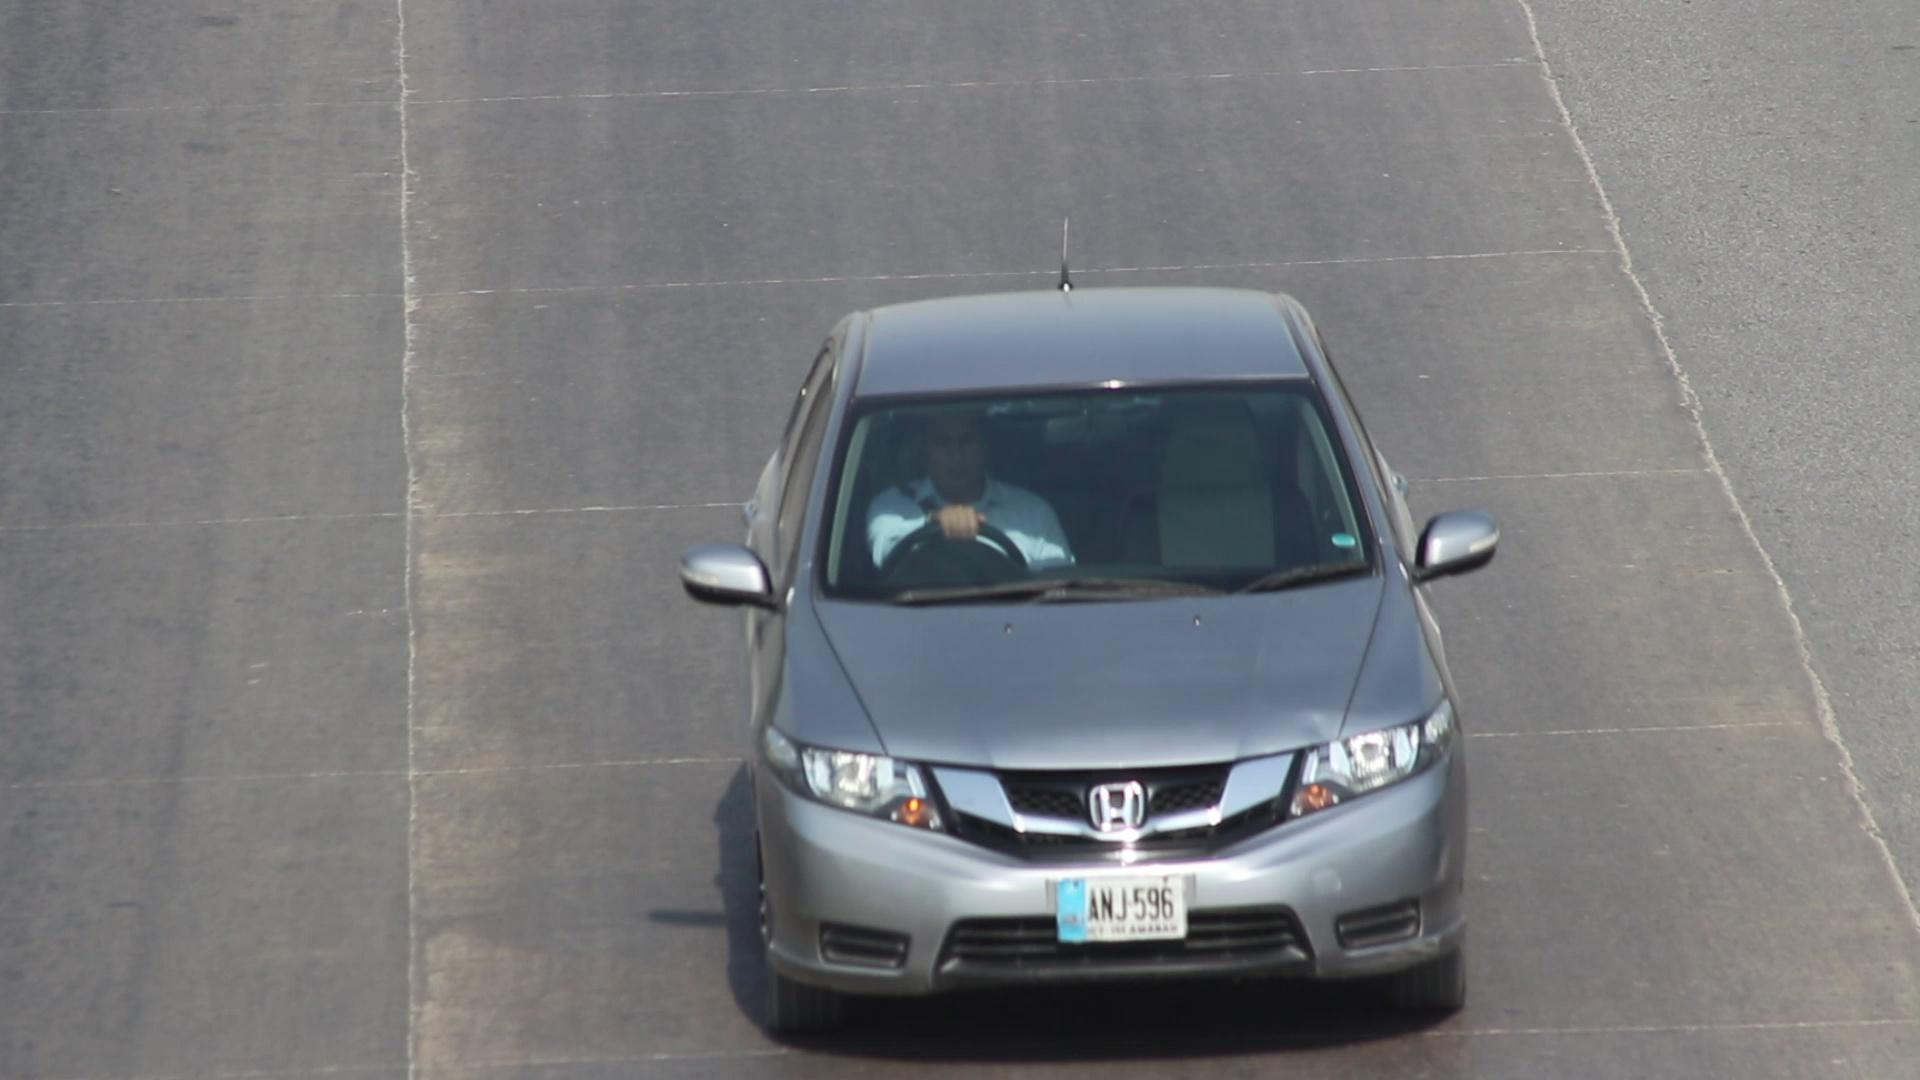windshield: (798, 353, 1433, 624)
